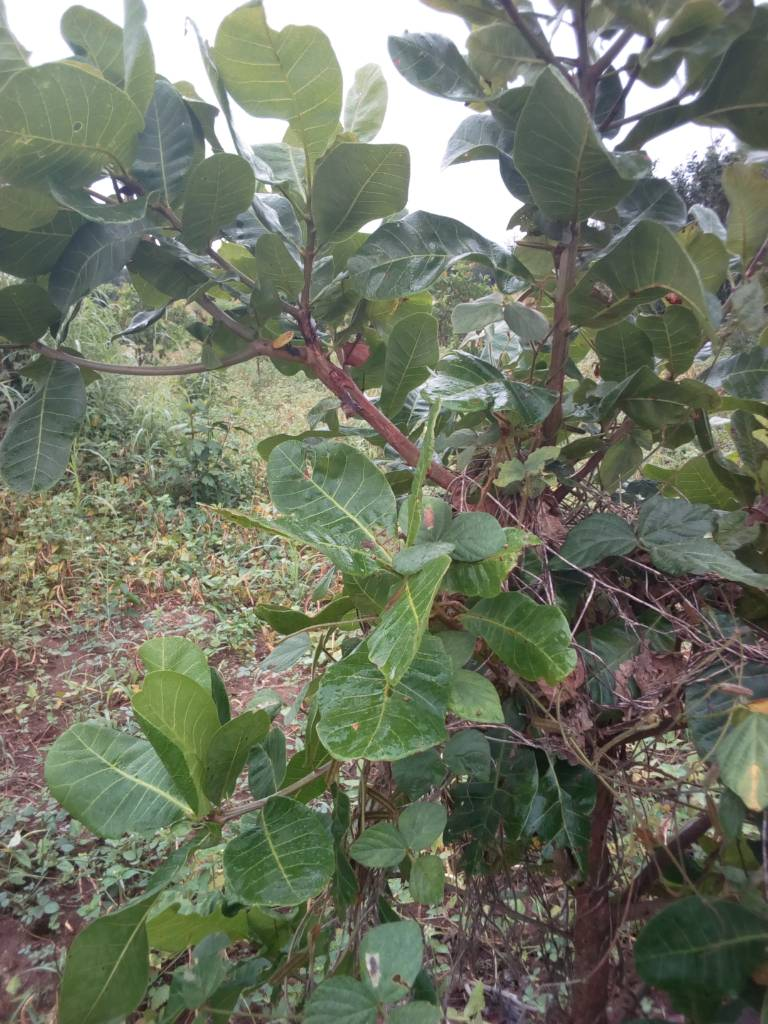Helopeltis anacardii: (572, 217, 707, 327), (371, 557, 450, 682), (583, 369, 724, 435)
